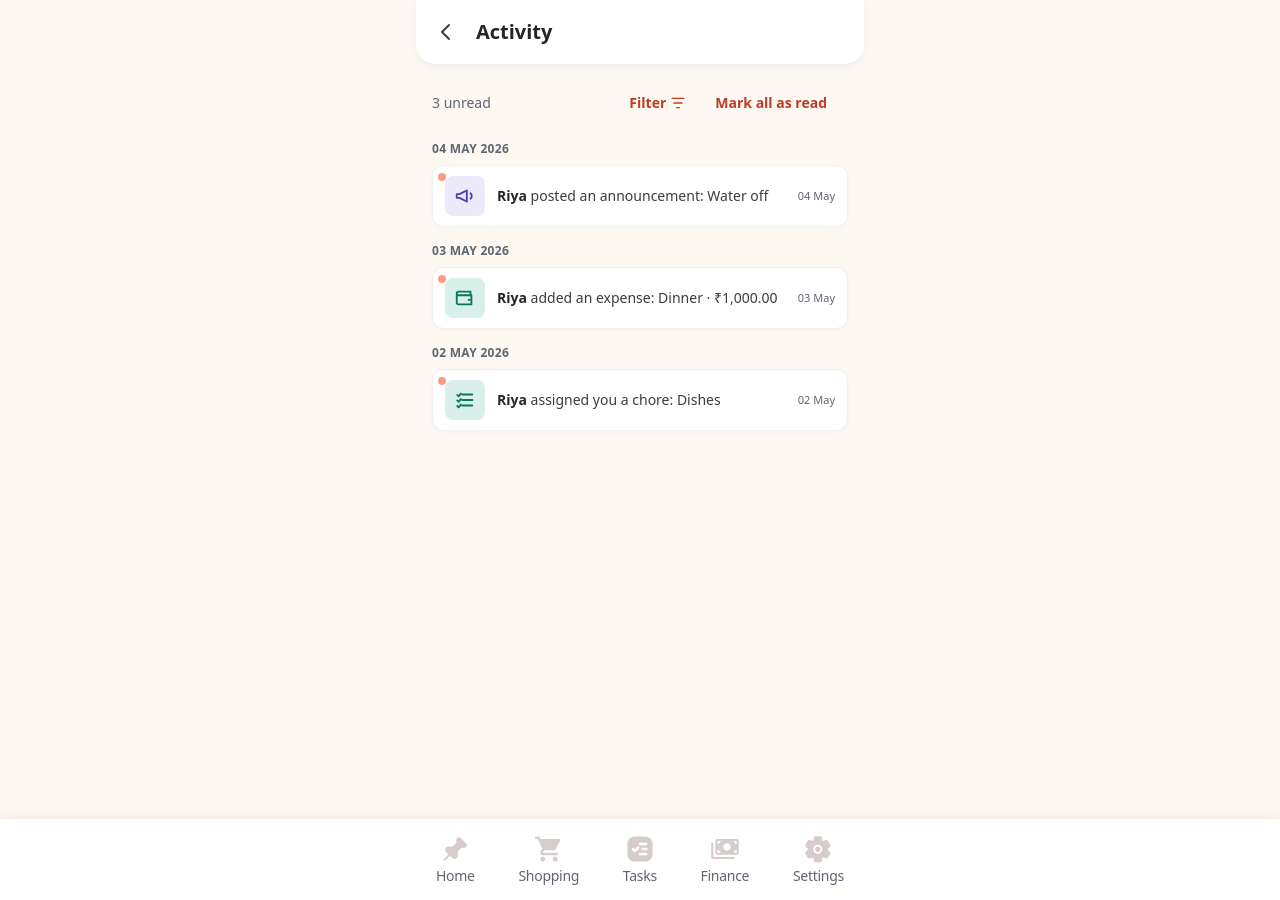
Test: activity centre › Escape closes the Filter menu and returns focus to its button
Step 1. Click the button "Filter" → {"x": 658, "y": 103}, box [625,81,690,125]
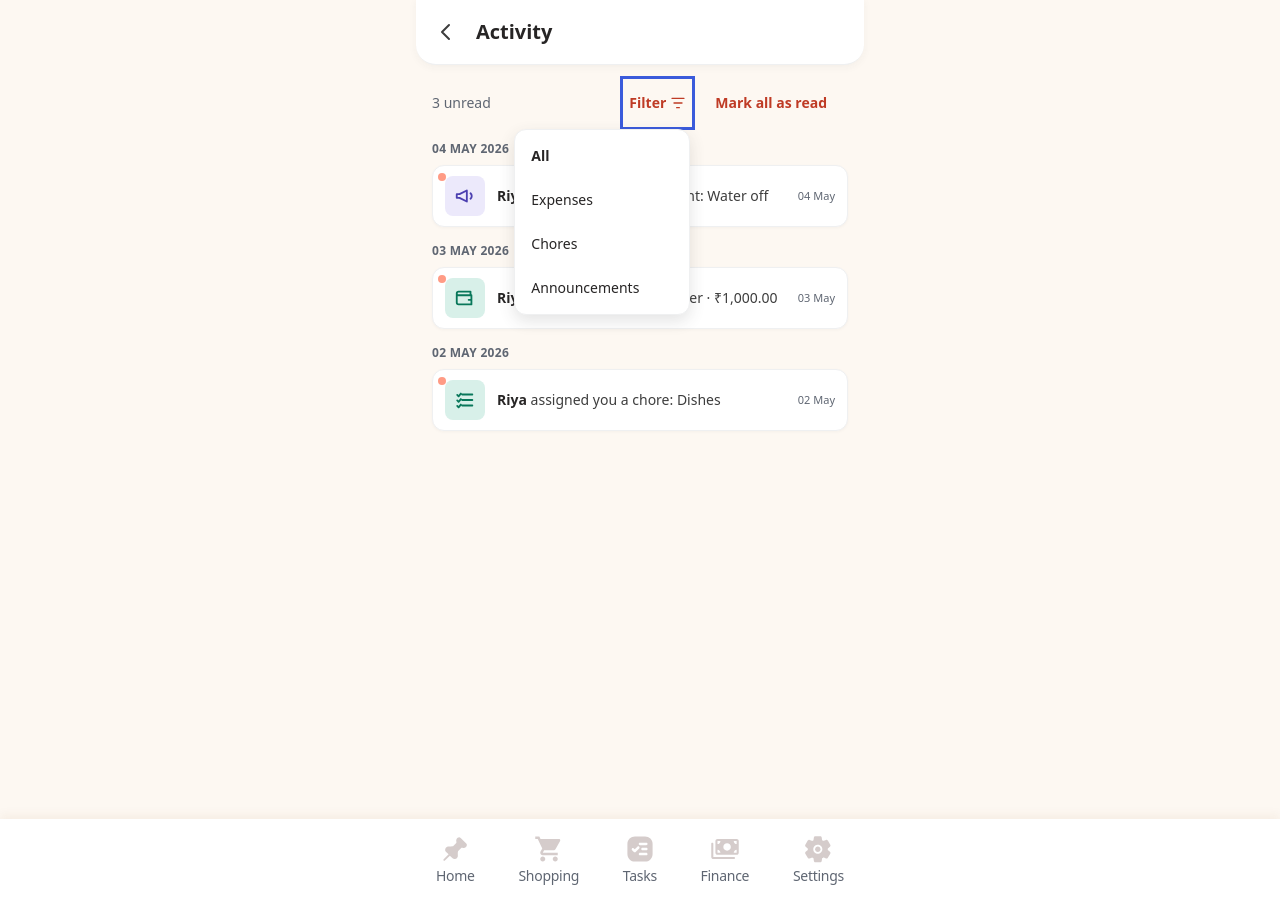
Result: the menu is shown at [514,129,690,315]
Step 2. Press Escape
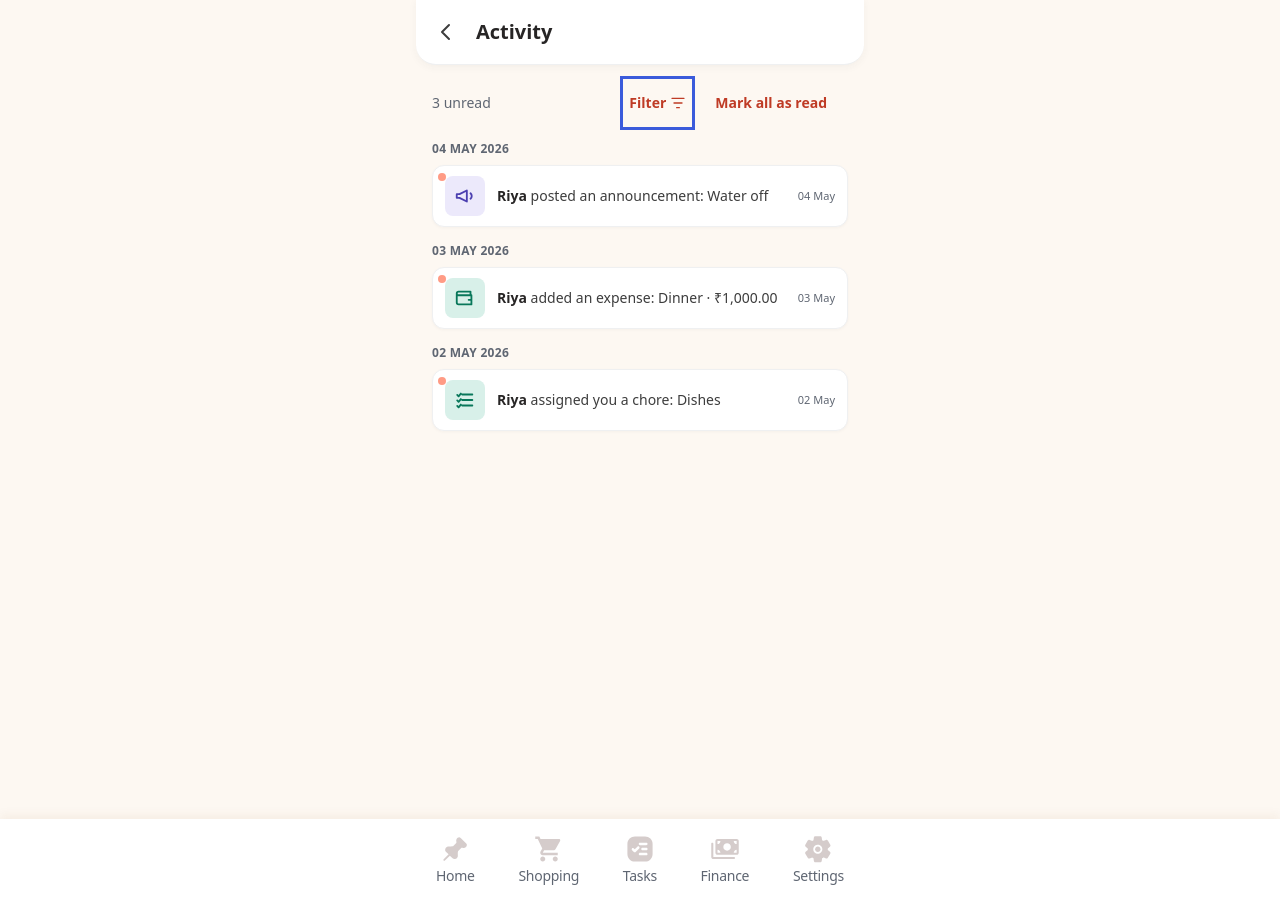
Result: the menu is gone
